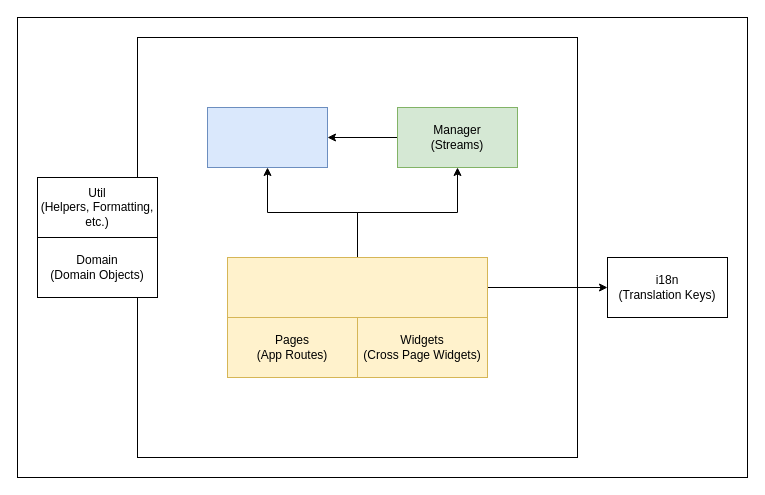
Image size: 765x495. Some labels were removed from this diagram. The shapes that lost their labels are listed below. From the top down, each one's box as (x1, y1, x2, y2) in pixels, then its label:
(206, 106, 328, 168): Service (REST Access)
(226, 256, 488, 318): UI (All Widgets)
